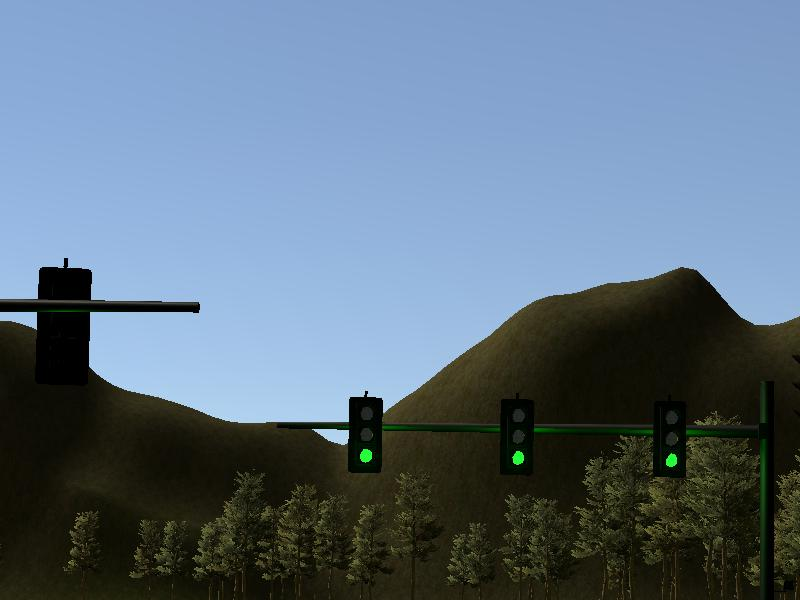Green: (350, 397, 382, 473), (654, 402, 686, 477), (501, 399, 532, 474)
